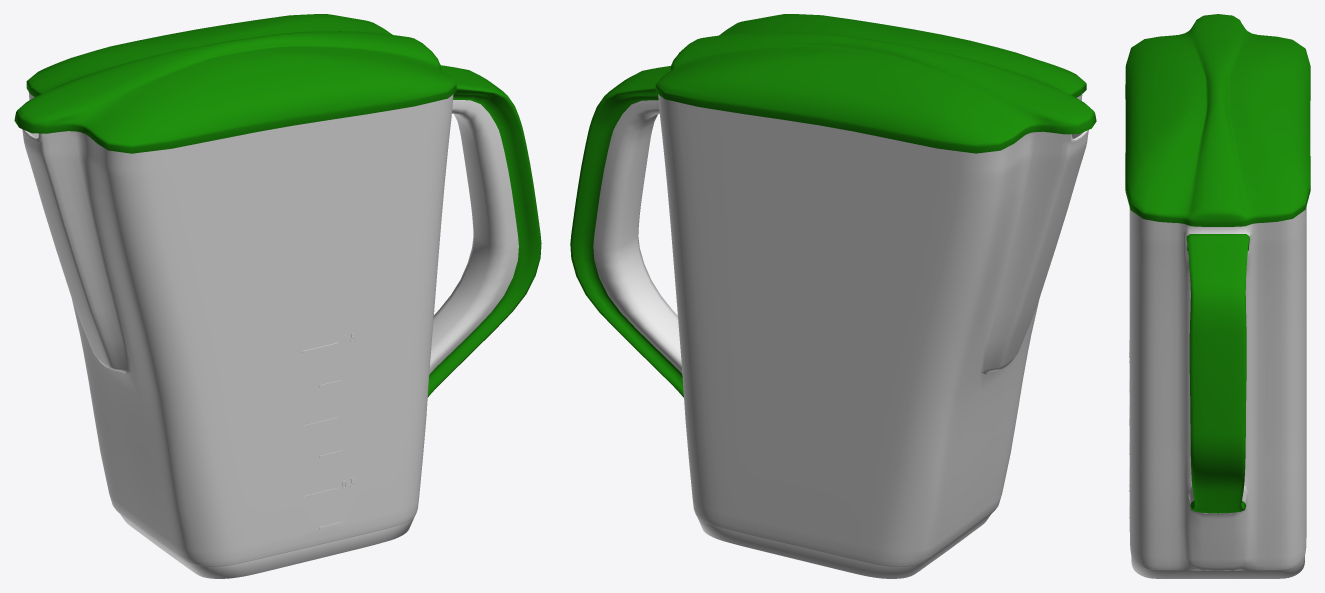
Rendered from brocca_filtro.fbx.
3 renders of one model, left to right at view 1: azimuth 30°, elevation 25°; view 2: azimuth 150°, elevation 25°; view 3: azimuth 270°, elevation 25°, orthographic. The views are drawn at different scales.
Visible parts, largest first — view 1: Cube, Cube.015; view 2: Cube, Cube.015; view 3: Cube, Cube.015.
Boxes of the visible parts, x1,y1,x2,y2 form: Cube: (22, 65, 541, 578); Cube.015: (14, 14, 456, 153); Cube: (570, 66, 1088, 578); Cube.015: (655, 14, 1096, 153); Cube: (1129, 207, 1306, 578); Cube.015: (1125, 14, 1310, 226).
Size of the model in its own units: 27.88 by 25.95 by 9.91.
